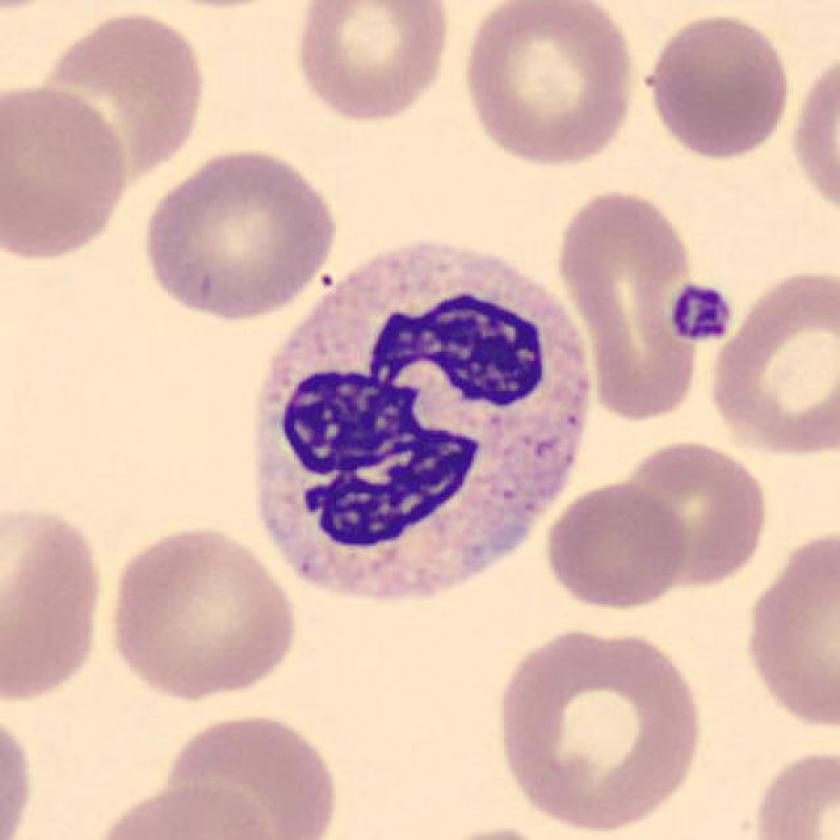neutrophil: (258, 243, 597, 600)
